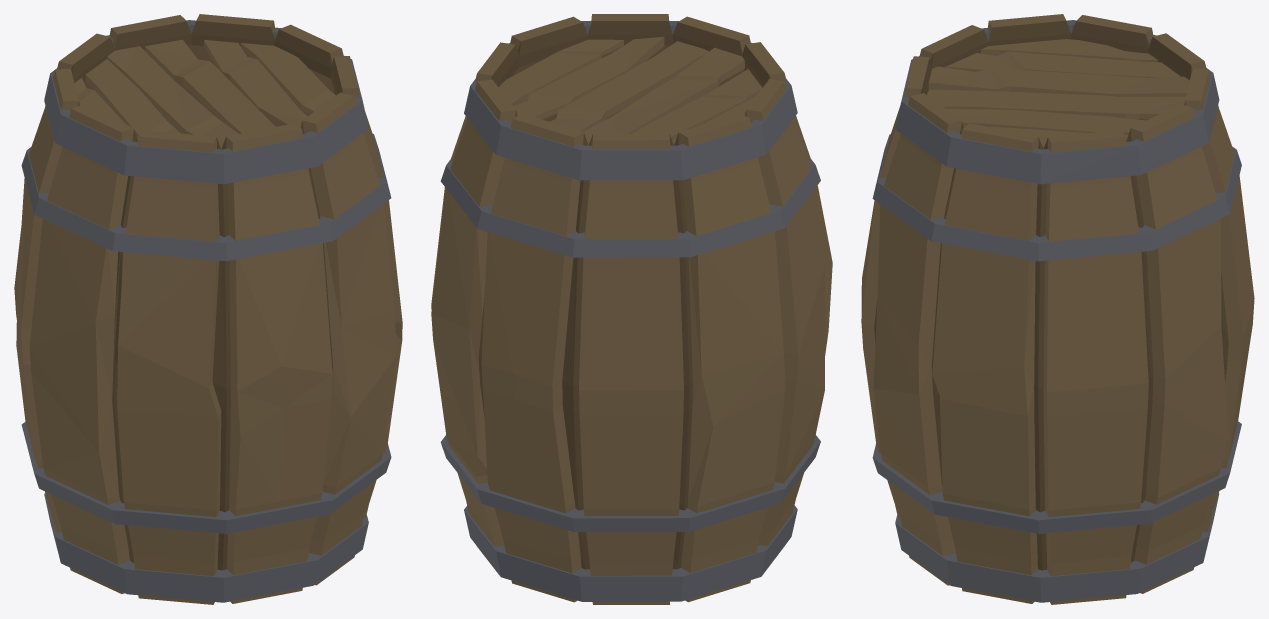
The model's file is Barrel.glb.
The picture shows the model from 3 angles, left to right: view 1: azimuth 30°, elevation 25°; view 2: azimuth 150°, elevation 25°; view 3: azimuth 270°, elevation 25°; orthographic projection.
Visible parts, largest first — view 1: Barrel; view 2: Barrel; view 3: Barrel.
Part boxes in pixels (box(x1,y1,x2,y2)): Barrel: box(14, 14, 402, 604); Barrel: box(431, 14, 832, 604); Barrel: box(861, 14, 1254, 604).
Size of the model in its own units: 0.8314 by 1.07 by 0.8242.
